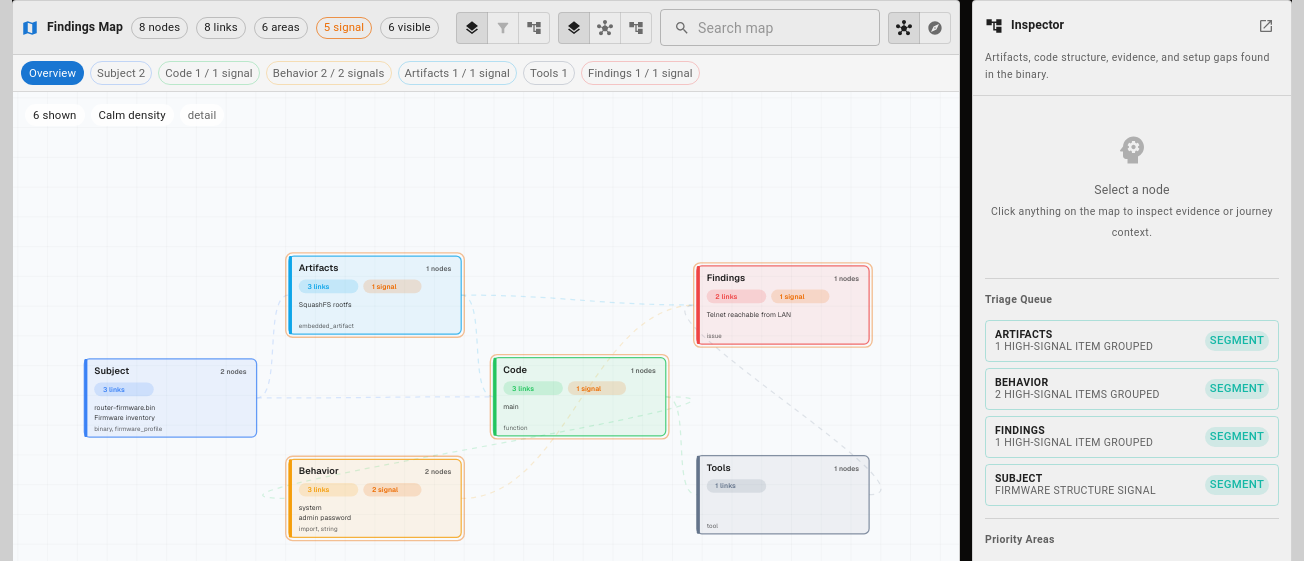
Test: GraphExplorer › starts as a calm segmented map and can focus a segment
The image size is (1304, 561).
Expected: the text "Findings Map" is shown, [47,19,123,36]
Expected: the text "6 areas" is shown, [262,20,300,34]
Click the button named "linked map density": (605, 28) [589,12,621,44]
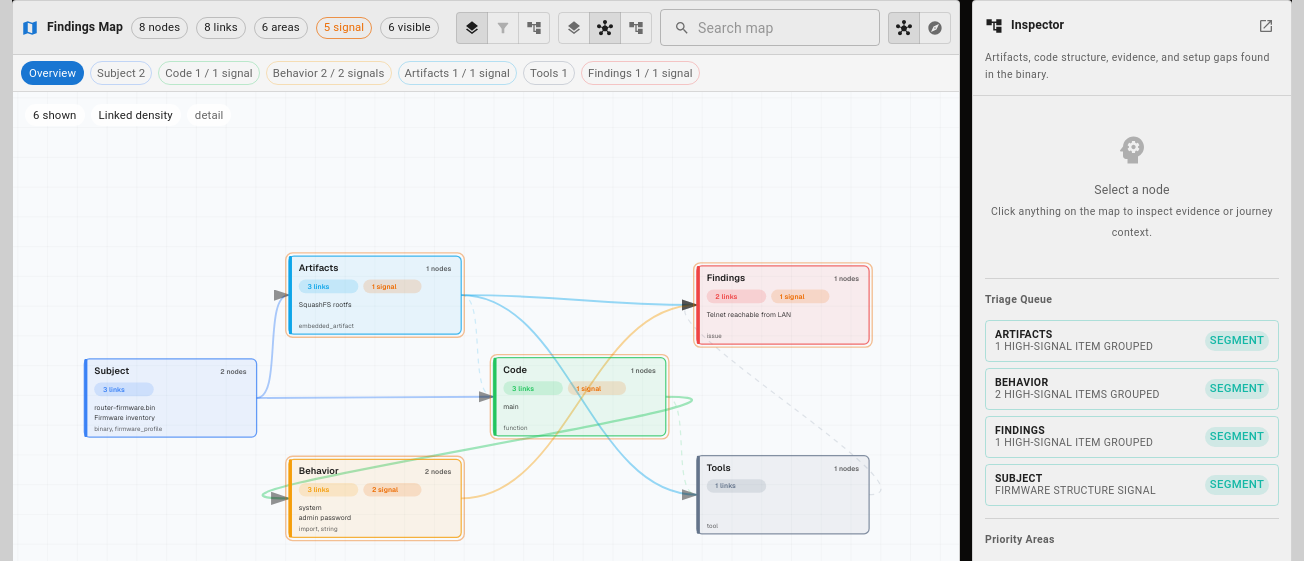
Expected: the text "Linked density" is shown, [98,108,173,122]
Click the button "Artifacts 1 / 1 signal": (457, 73) [398,61,517,85]
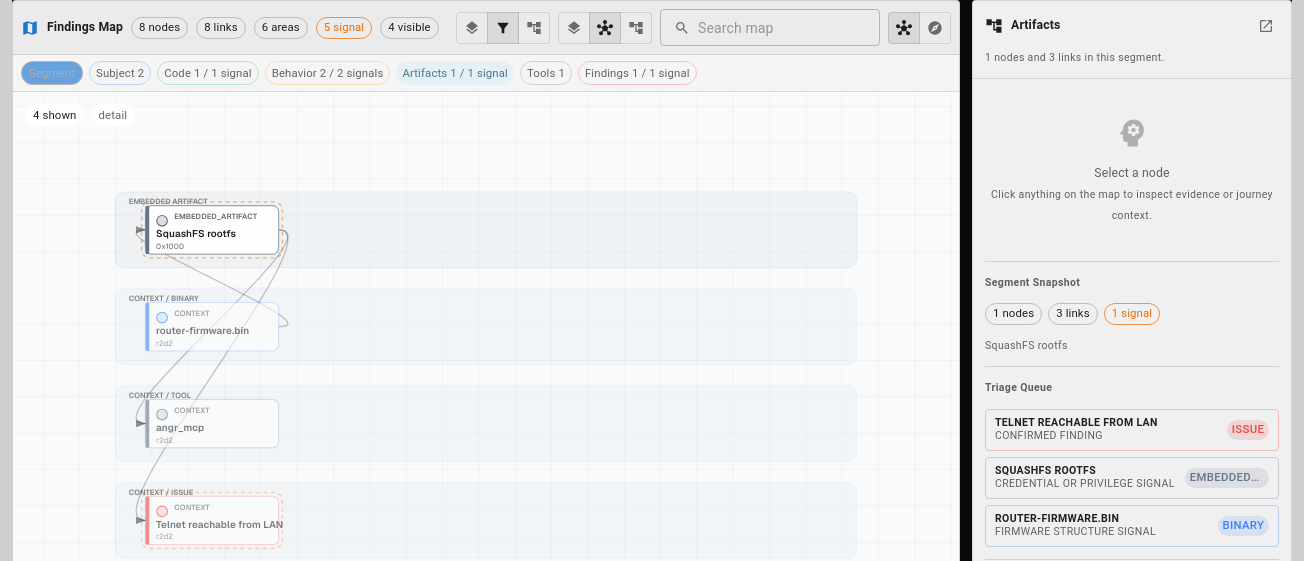
Expected: the text "1 nodes and 3 links in this segment." is shown, [985,51,1165,64]
